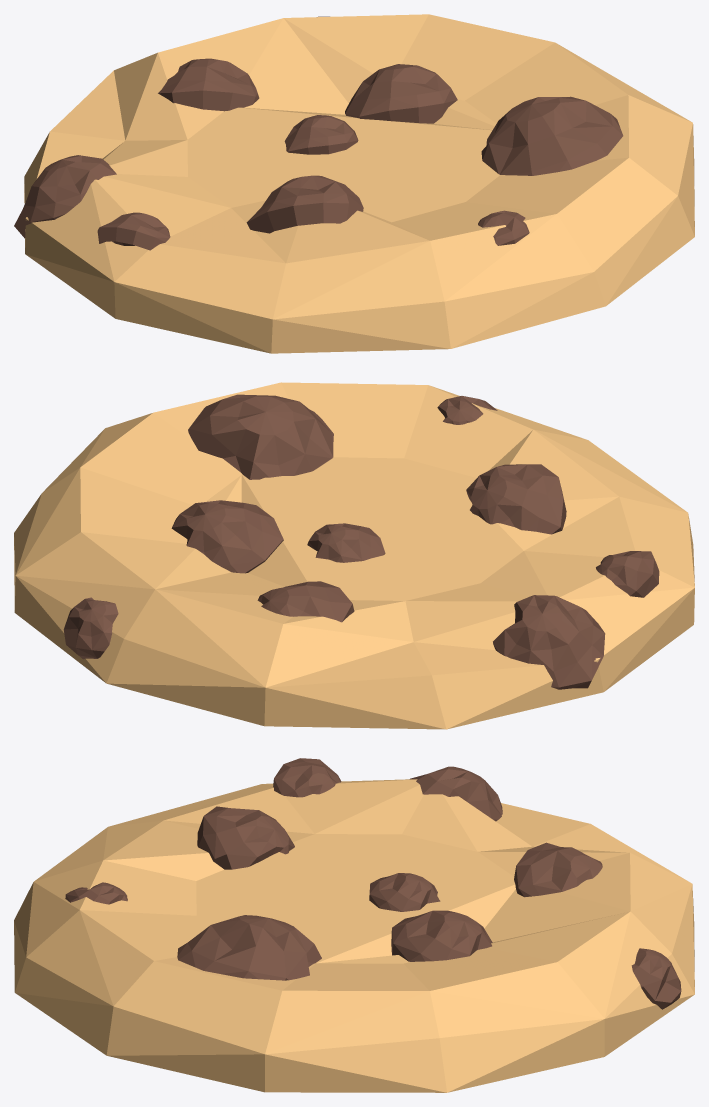
The model's file is cookie.glb.
3 renders of one model, top to bottom at view 1: azimuth 30°, elevation 25°; view 2: azimuth 150°, elevation 25°; view 3: azimuth 270°, elevation 25°, orthographic.
Visible parts, largest first — view 1: Node; view 2: Node; view 3: Node.
Part boxes in pixels (x1=…): Node: x1=14, y1=14, x2=694, y2=353; Node: x1=14, y1=382, x2=694, y2=729; Node: x1=14, y1=758, x2=694, y2=1092.
Bounding box in the file's own units: 0.1644 × 0.0309 × 0.1644.
